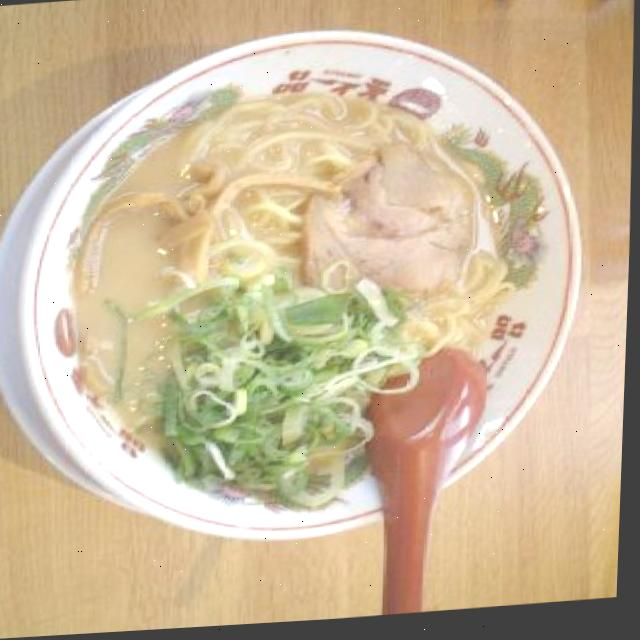面条主食: (0, 11, 605, 589)
